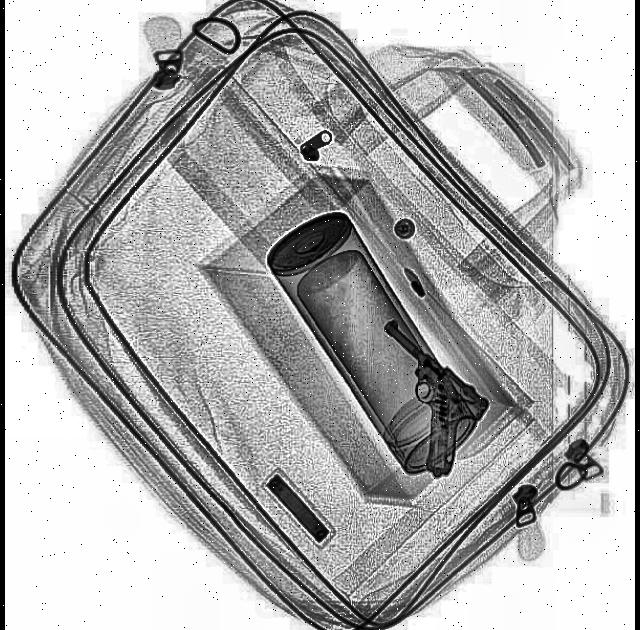Gun: (336, 315, 494, 481)
